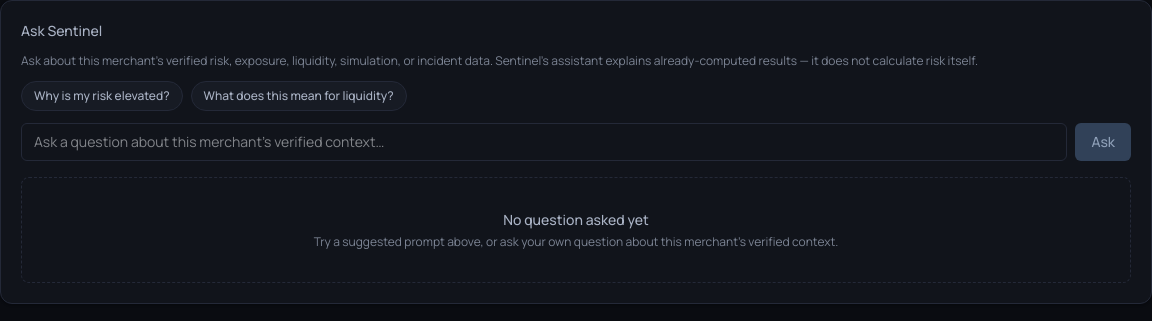
Scenario: AssistantPanel › shows a distinct provider-unavailable state on a 503 response
Click the button "Why is my risk elevated?": (102, 96) [21,81,183,111]
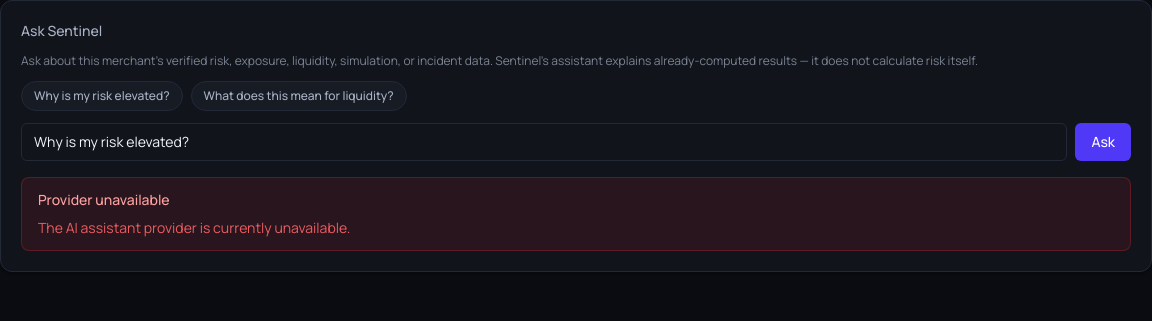
Expected: the text "Provider unavailable" is shown, [38,190,170,209]
Expected: the text "The AI assistant provider is currently unavailable." is shown, [38,218,350,237]
